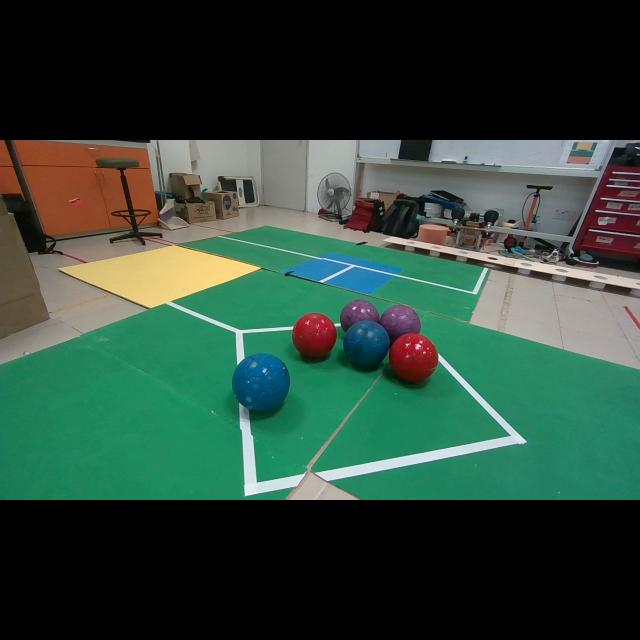B: (232, 352, 290, 411), (344, 320, 390, 366)
P: (379, 305, 421, 343), (340, 299, 380, 331)
R: (389, 332, 439, 382), (292, 312, 338, 359)
